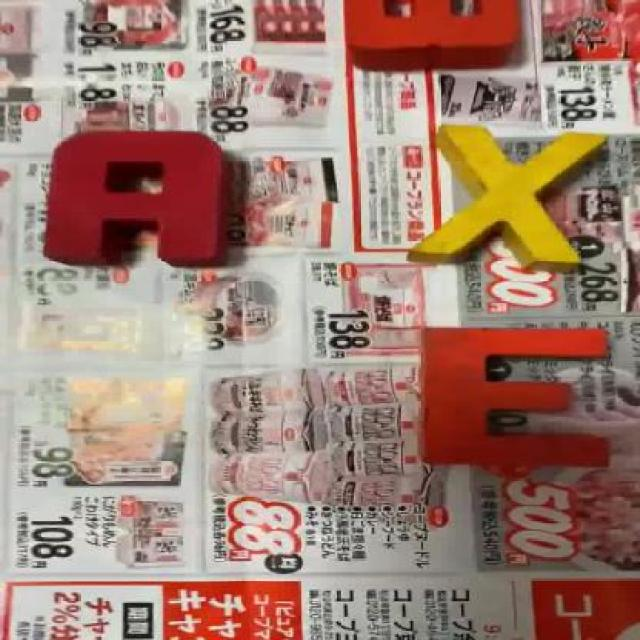A: (48, 133, 229, 270)
E: (420, 327, 605, 465)
X: (424, 121, 602, 279)
